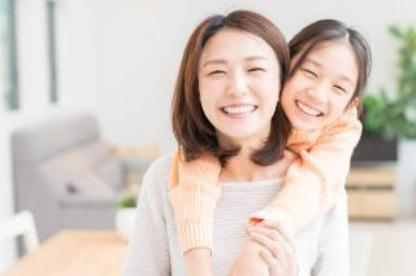person: (138, 7, 295, 276), (279, 15, 378, 170)
